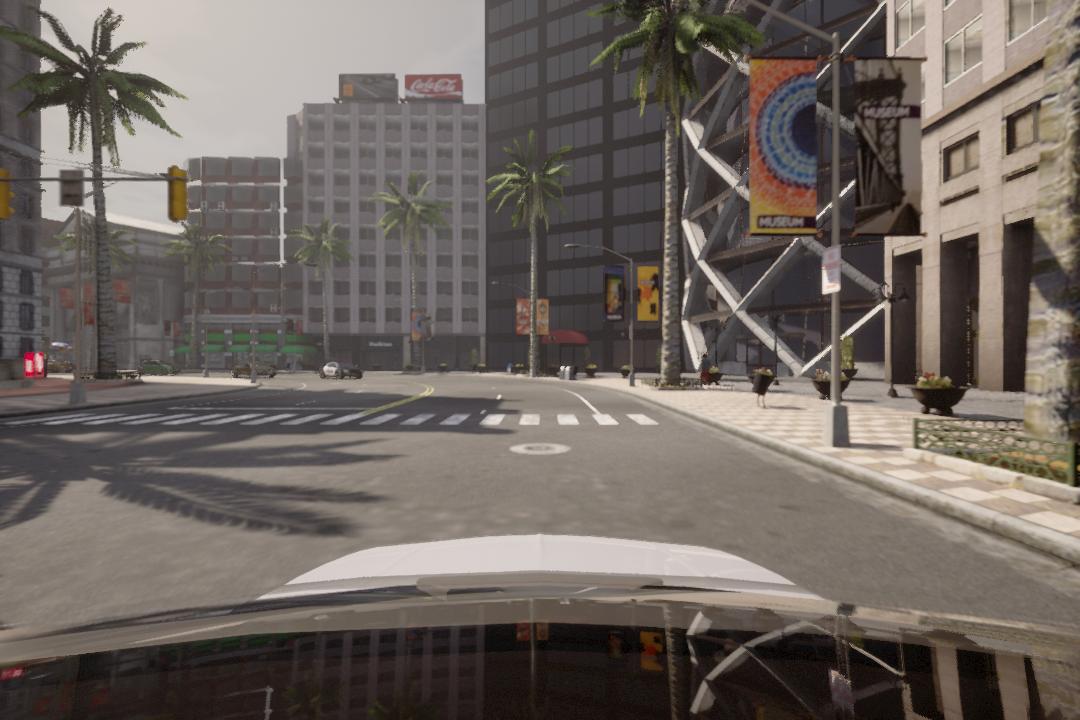walkside: (1, 407, 680, 424)
